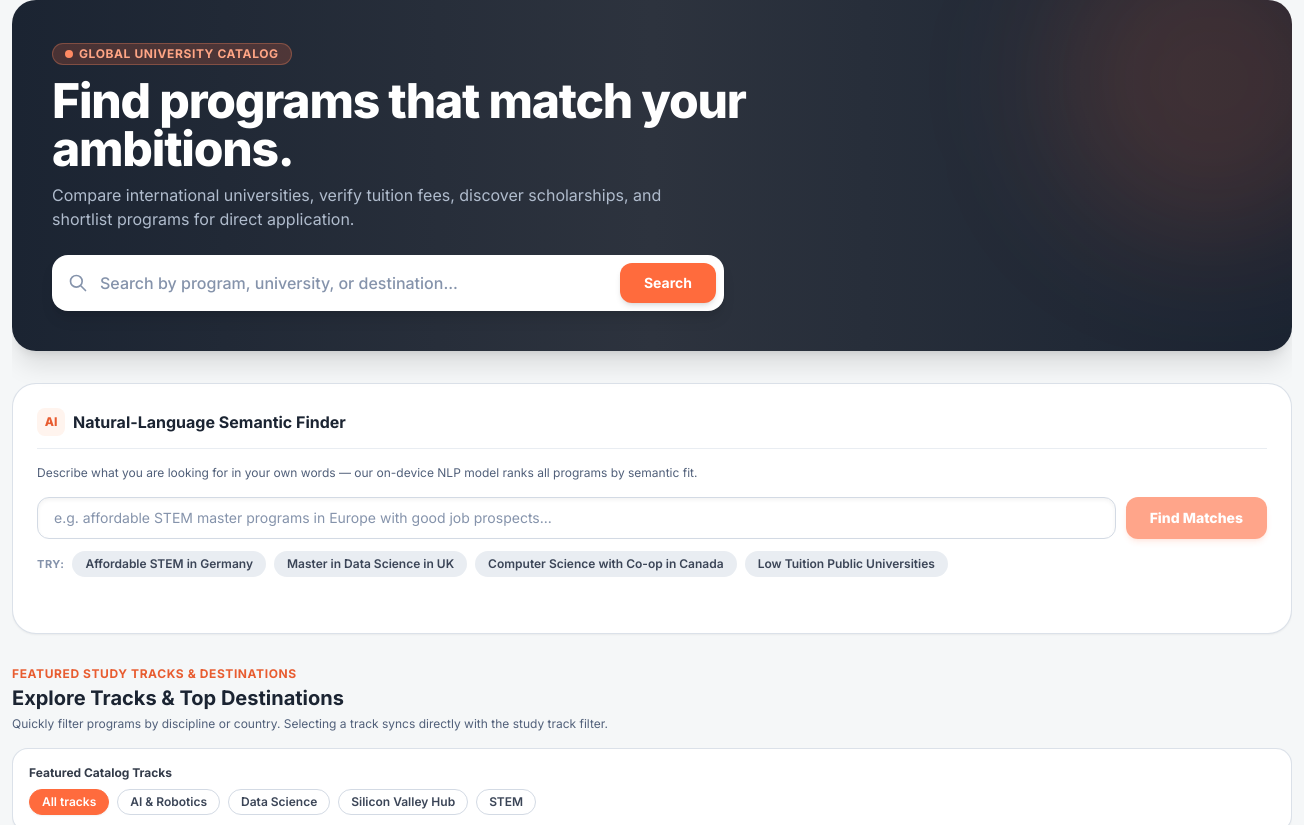
Test: Discovery Page › clicking a featured track chip syncs with track state and filters catalog
This screenshot has width=1304, height=825.
Click the button with test id "track-chip-STEM" at {"x": 506, "y": 802}, box [476,789,536,815]
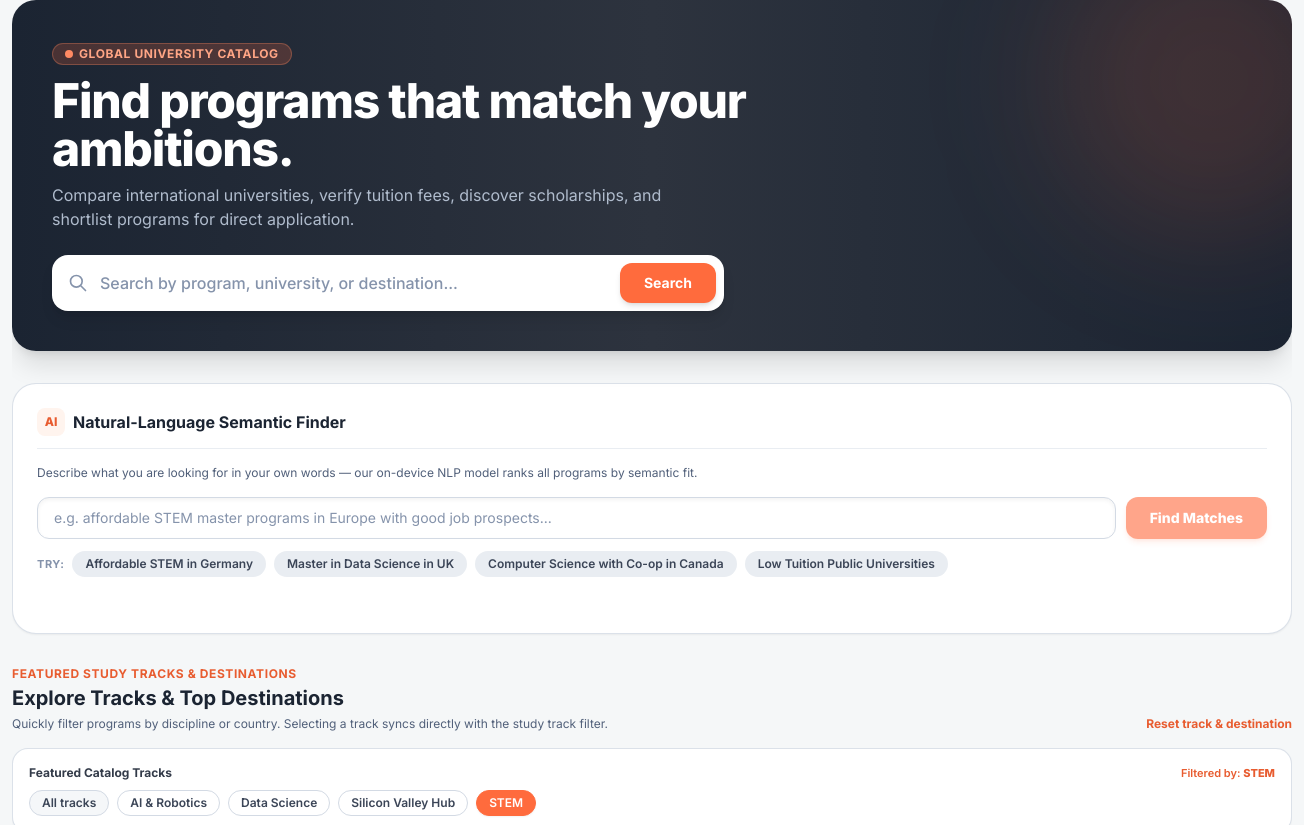
Clicking again toggles off
Click the button with test id "track-chip-STEM" at {"x": 506, "y": 802}, box [476,790,536,816]
(page scrolled)
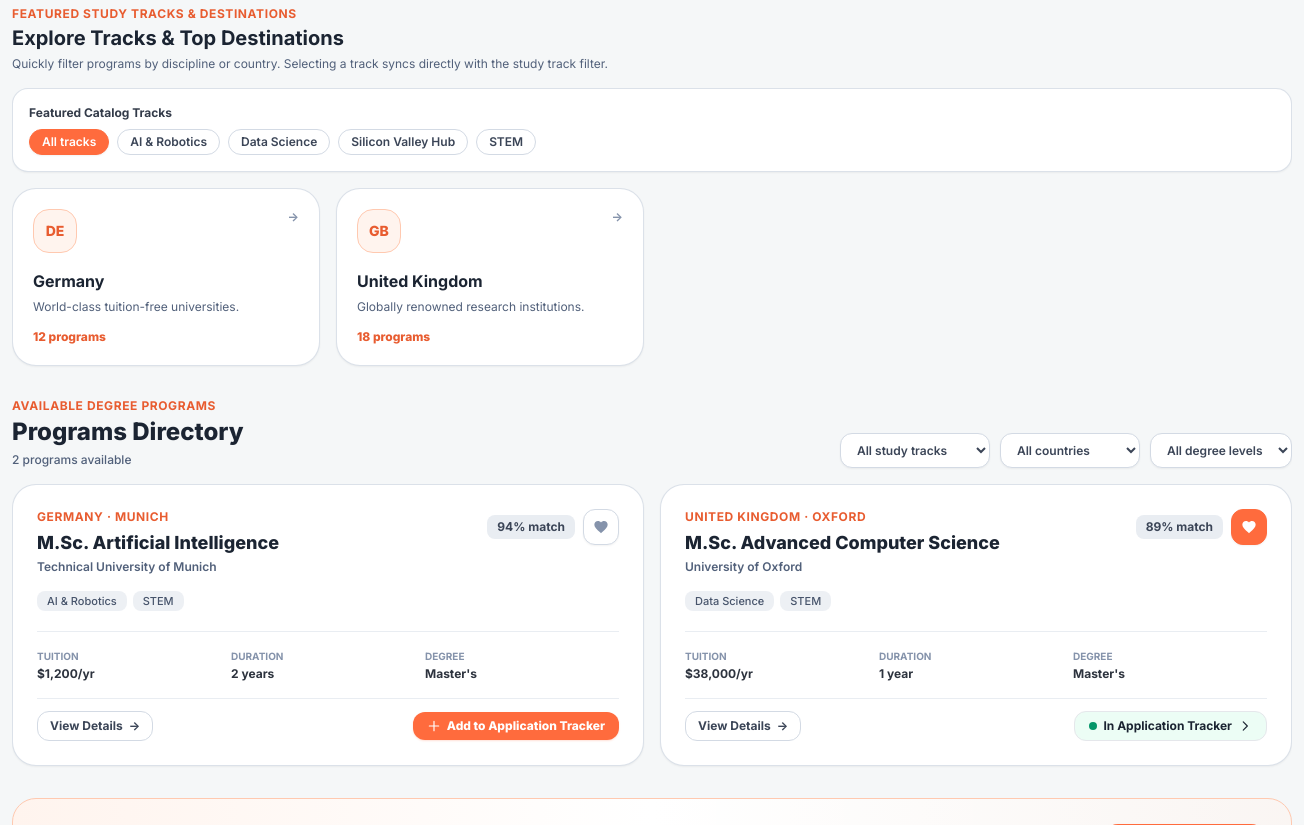
Check: the dropdown with test id "track-filter" shows "All study tracks", box [840,432,990,468]
